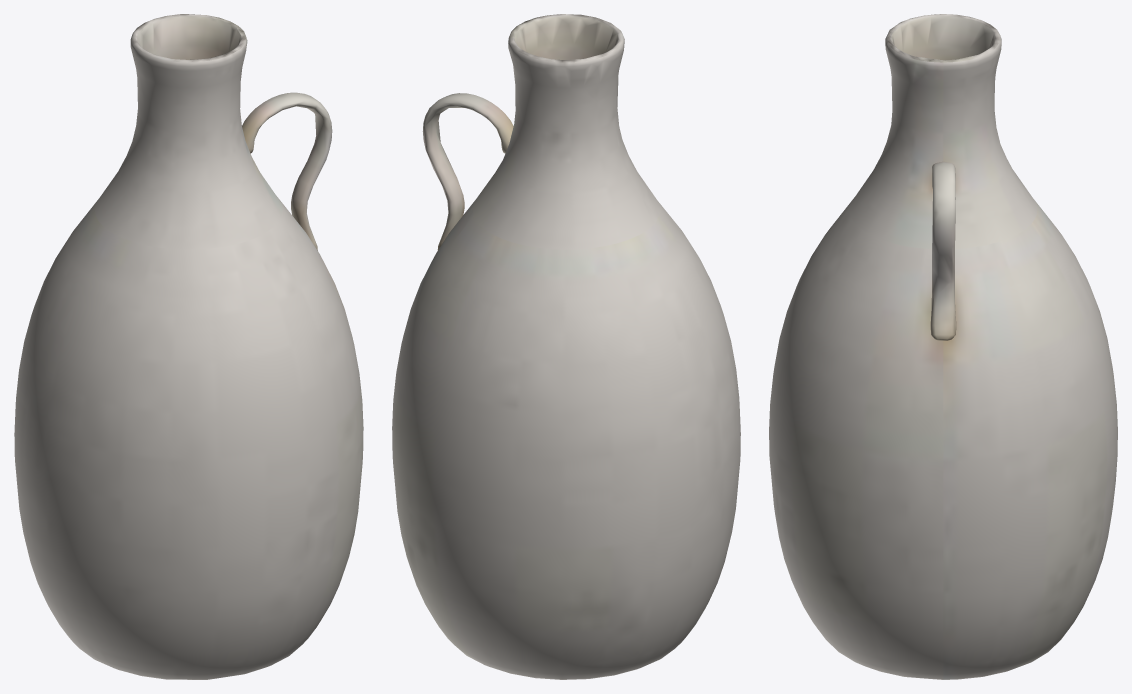
File: vase-ceramic-04.lite.5aa3c112.glb
The picture shows the model from 3 angles, left to right: view 1: azimuth 30°, elevation 25°; view 2: azimuth 150°, elevation 25°; view 3: azimuth 270°, elevation 25°; orthographic projection.
Visible parts, largest first — view 1: model; view 2: model; view 3: model.
Part boxes in pixels (bbox=[...]): model: bbox=[14, 14, 363, 679]; model: bbox=[392, 14, 740, 679]; model: bbox=[769, 14, 1117, 679].
Bounding box in the file's own units: 0.1811 × 0.3419 × 0.1811.
Materials: 1 (1 with a texture image).
